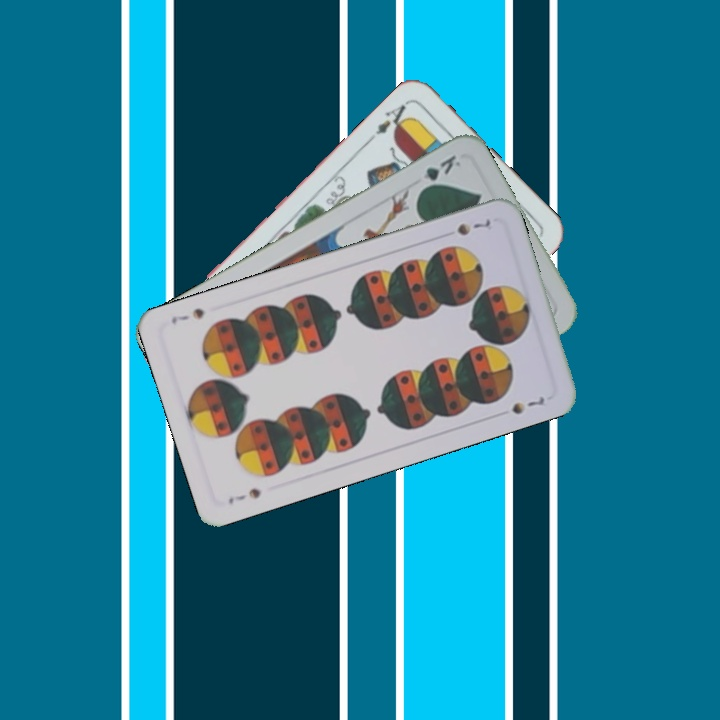EA: (371, 97, 415, 138)
GK: (415, 150, 464, 194)
S7: (452, 215, 494, 238), (224, 484, 264, 507)
